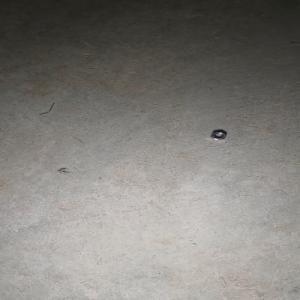Nut: (209, 130, 226, 140)
